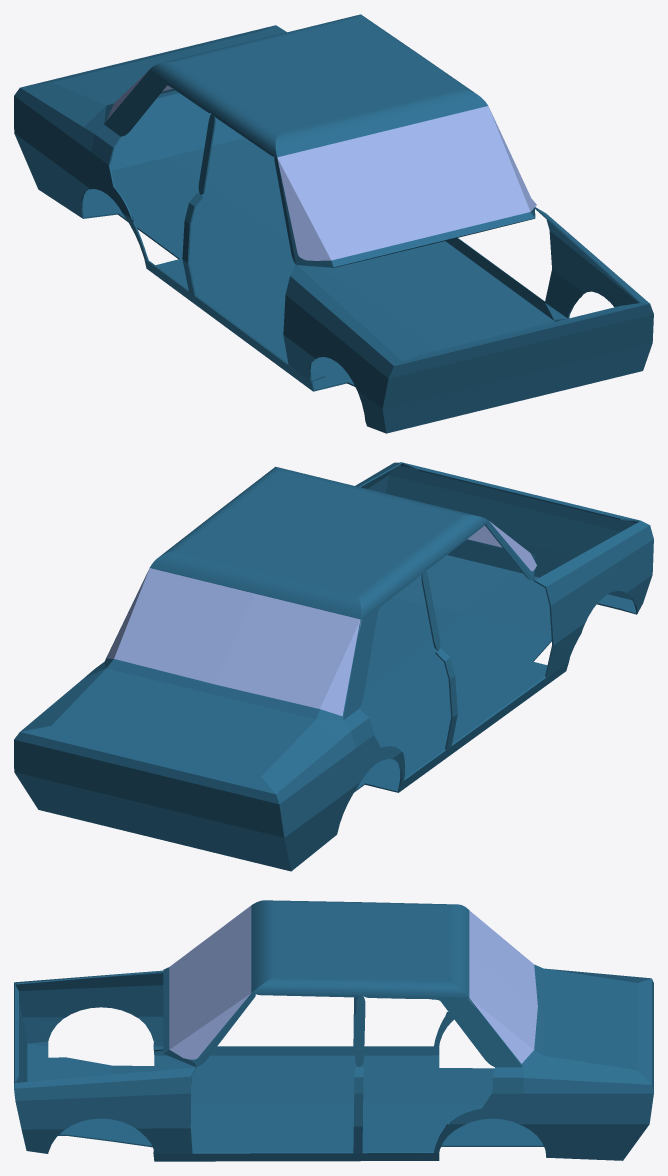
File: zhigul.fbx
3 renders of one model, top to bottom at view 1: azimuth 30°, elevation 25°; view 2: azimuth 150°, elevation 25°; view 3: azimuth 270°, elevation 25°, orthographic. The views are drawn at different scales.
Parts seen in each view (by area): view 1: base; view 2: base; view 3: base.
Boxes of the visible parts, x1=… form: base: x1=14, y1=14, x2=653, y2=433; base: x1=14, y1=462, x2=653, y2=871; base: x1=14, y1=900, x2=653, y2=1161.
Size of the model in its own units: 195 by 135 by 465.
